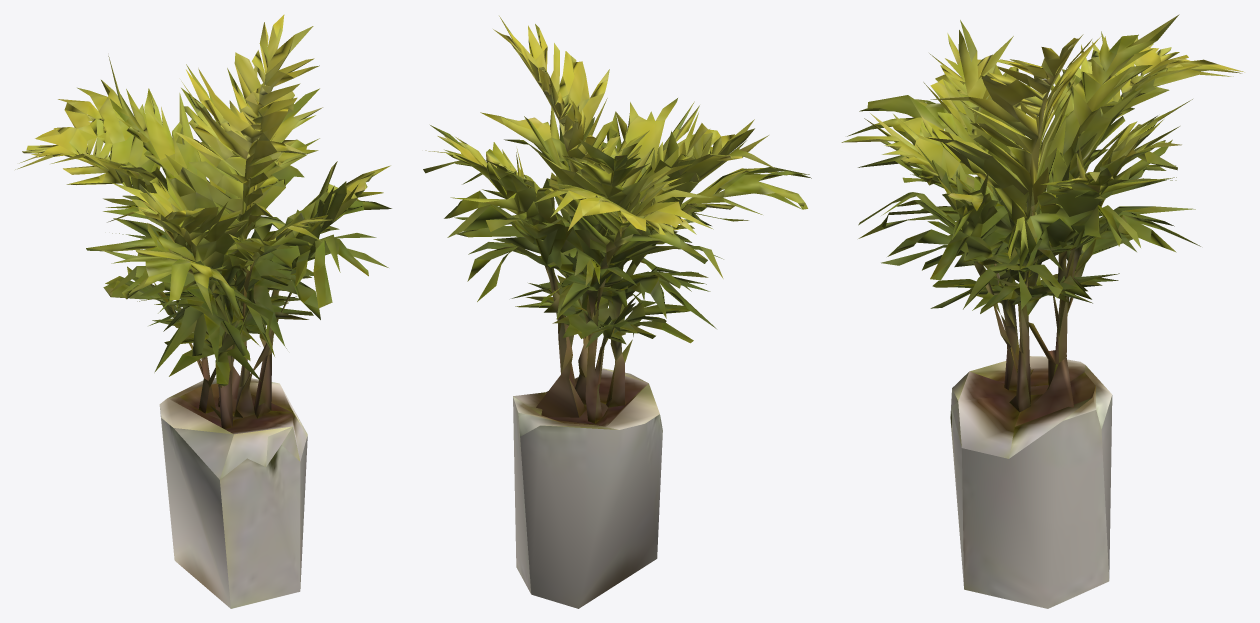
The model's file is pot_pohon_lod2.glb.
3 views of the same model, side by side, from view 1: azimuth 30°, elevation 25°; view 2: azimuth 150°, elevation 25°; view 3: azimuth 270°, elevation 25° (orthographic). The views are drawn at different scales.
Visible parts, largest first — view 1: tripo_node_3a740da6-b86d-4b4c-af4e-c83ffe172755; view 2: tripo_node_3a740da6-b86d-4b4c-af4e-c83ffe172755; view 3: tripo_node_3a740da6-b86d-4b4c-af4e-c83ffe172755.
Part boxes in pixels (x1,y1,x2,y2): tripo_node_3a740da6-b86d-4b4c-af4e-c83ffe172755: (15, 14, 391, 608); tripo_node_3a740da6-b86d-4b4c-af4e-c83ffe172755: (423, 16, 811, 608); tripo_node_3a740da6-b86d-4b4c-af4e-c83ffe172755: (841, 14, 1244, 608).
Bounding box in the file's own units: 0.5995 × 0.9817 × 0.6267.
Materials: 1 (1 with a texture image).
